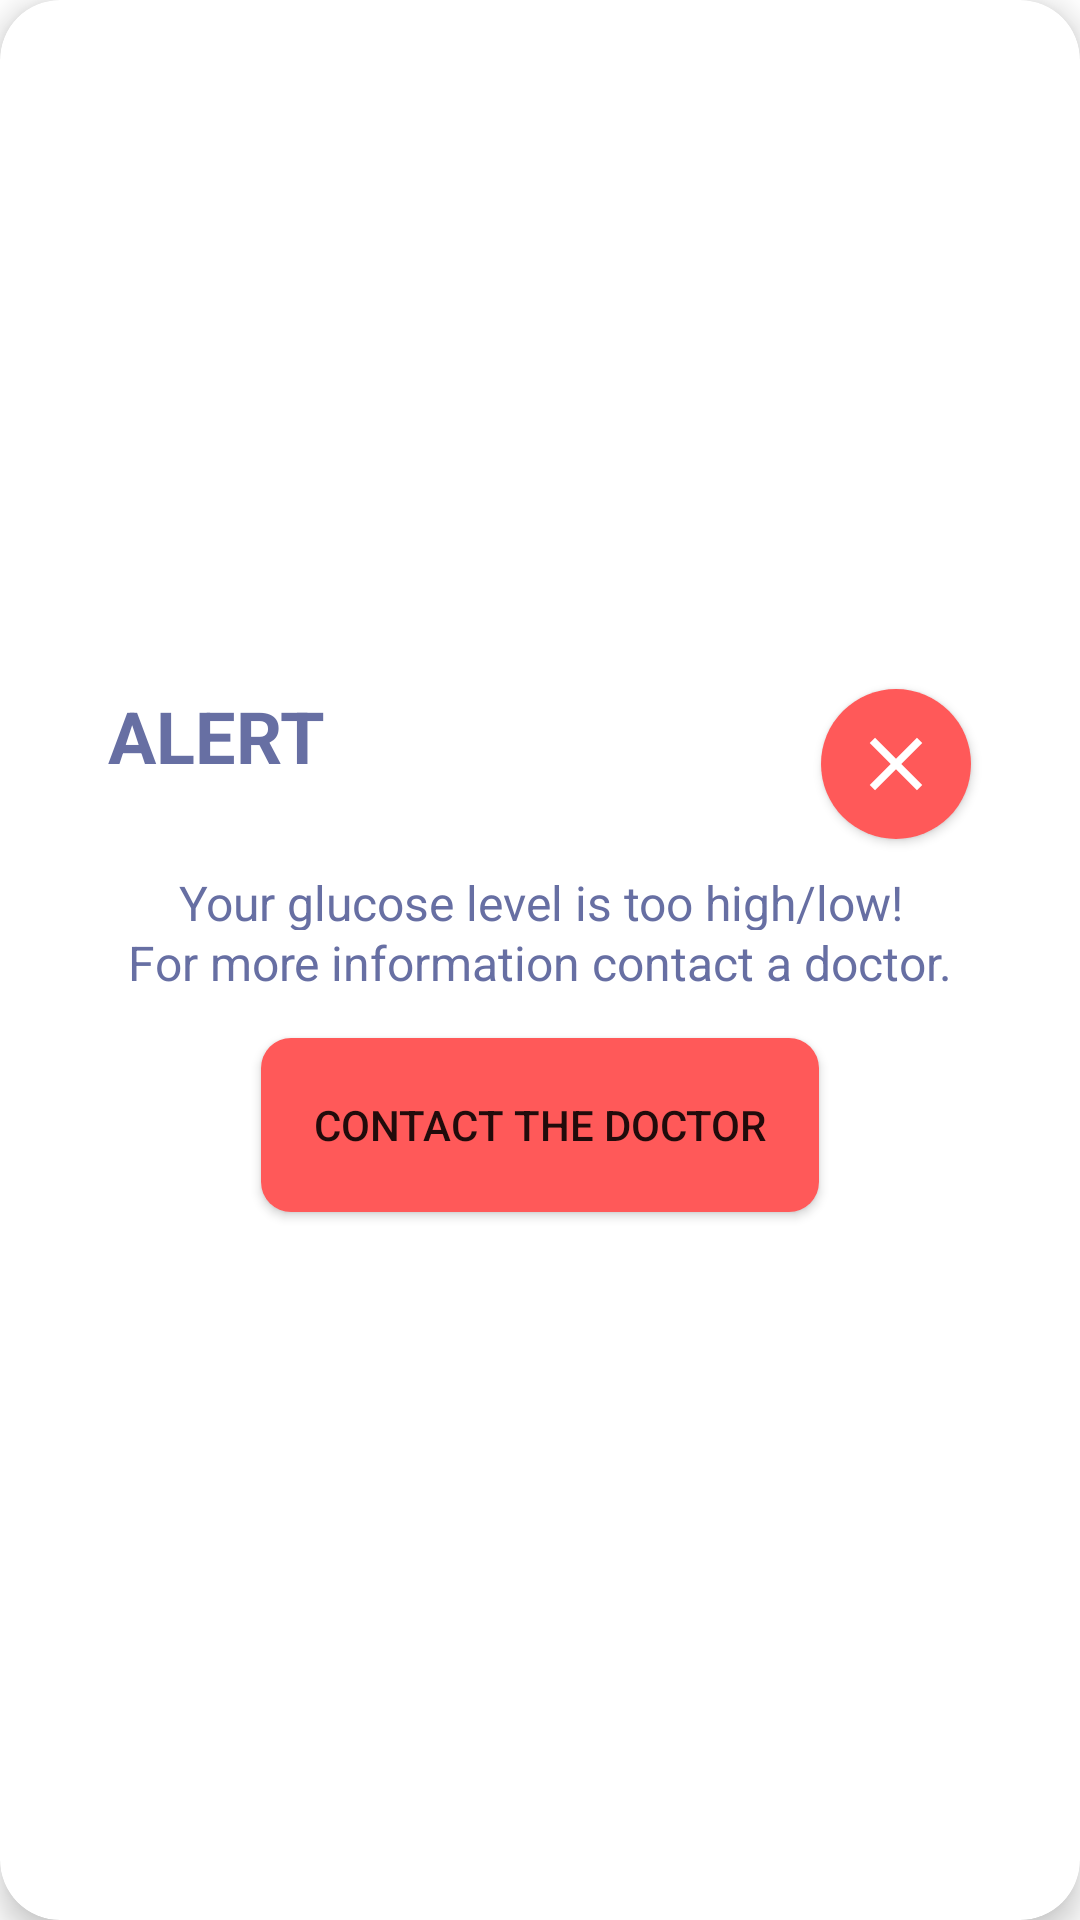

Where icons sit on this 1080 × 1920 app screen, as (x1, y1, x2, y2):
close: (821, 689, 971, 839)
